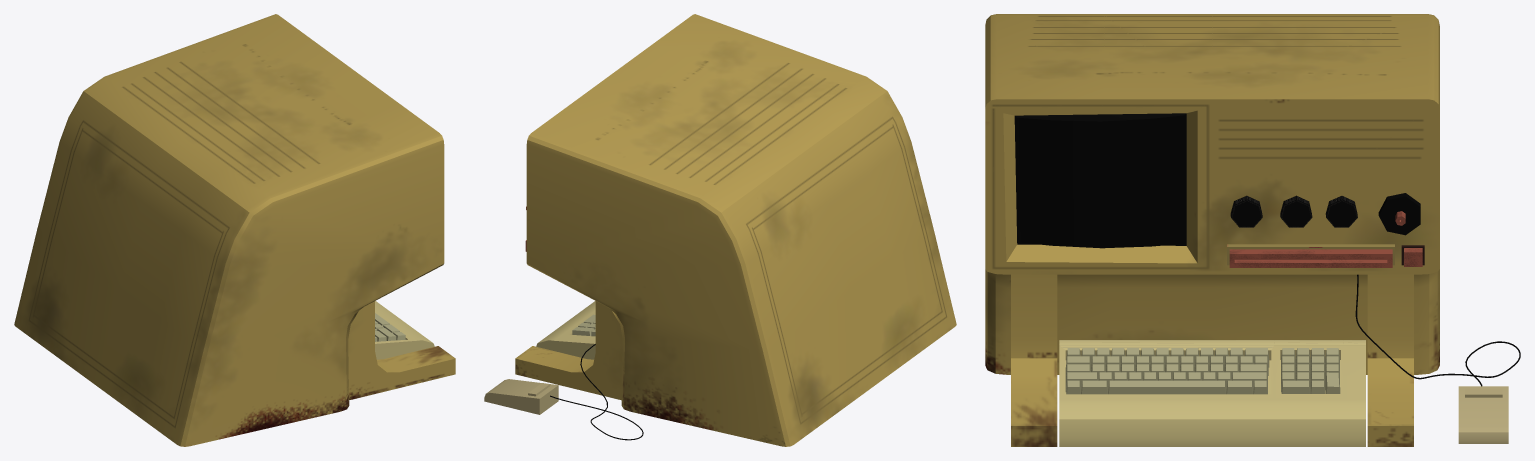
Rendered from Env_Computer.fbx.
3 renders of one model, left to right at view 1: azimuth 30°, elevation 25°; view 2: azimuth 150°, elevation 25°; view 3: azimuth 270°, elevation 25°, orthographic. The views are drawn at different scales.
Parts seen in each view (by area): view 1: Computer, Keyboard; view 2: Computer, Mouse, Keyboard; view 3: Computer, Keyboard, document_analyser, Mouse, key.007, key, key.013, key.001, key.014, syringe_analyser, key.015, scroll_btn.001 (+3 smaller).
Boxes of the visible parts, bbox=[...] form: Computer: bbox=[14, 14, 455, 446]; Keyboard: bbox=[375, 301, 434, 359]; Computer: bbox=[515, 14, 956, 446]; Mouse: bbox=[484, 379, 558, 414]; Keyboard: bbox=[536, 301, 595, 359]; Computer: bbox=[985, 14, 1439, 446]; Keyboard: bbox=[1059, 340, 1365, 446]; document_analyser: bbox=[1227, 244, 1394, 267]; Mouse: bbox=[1458, 386, 1508, 443]; key.007: bbox=[1108, 380, 1226, 394]; key: bbox=[1066, 348, 1243, 367]; key.013: bbox=[1091, 356, 1268, 375]; key.001: bbox=[1281, 348, 1339, 383]; key.014: bbox=[1091, 364, 1238, 380]; syringe_analyser: bbox=[1378, 193, 1420, 235]; key.015: bbox=[1098, 372, 1231, 390]; scroll_btn.001: bbox=[1280, 195, 1312, 227].
Size of the model in its own units: 73.33 by 61.98 by 89.84.
